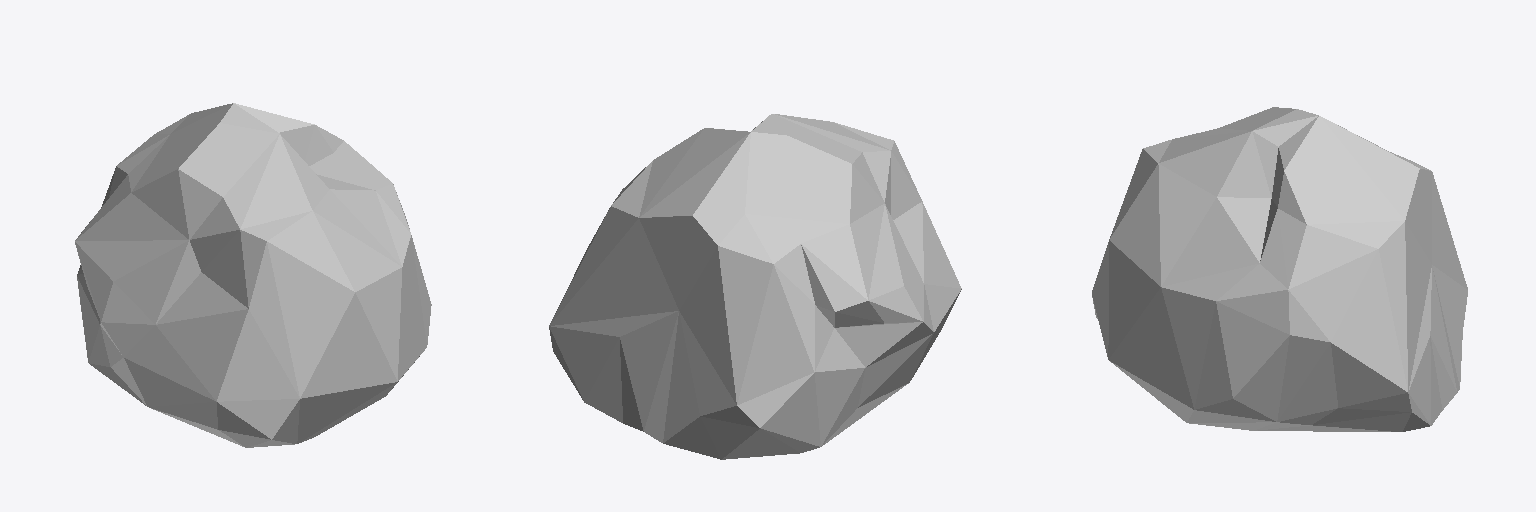
The model's file is stone.obj.
The picture shows the model from 3 angles: view 1: azimuth 30°, elevation 25°; view 2: azimuth 150°, elevation 25°; view 3: azimuth 270°, elevation 25°; orthographic projection.
Parts seen in each view (by area): view 1: stone_lp; view 2: stone_lp; view 3: stone_lp.
Part boxes in pixels (x1,y1,x2,y2): stone_lp: (75, 103, 431, 447); stone_lp: (549, 114, 961, 459); stone_lp: (1092, 107, 1467, 431).
Bounding box in the file's own units: 1.77 × 1.52 × 1.86.